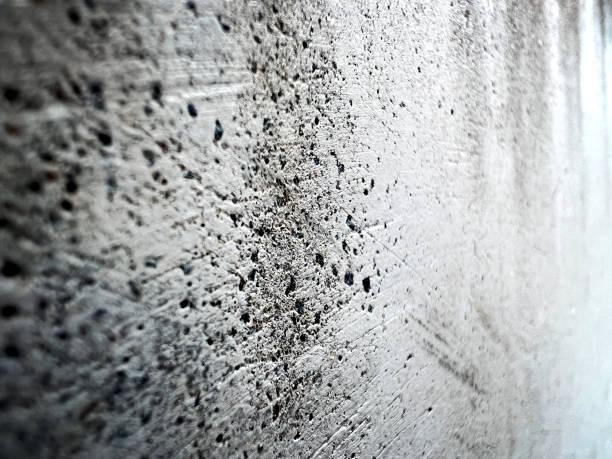Spalling: (1, 1, 408, 459)
